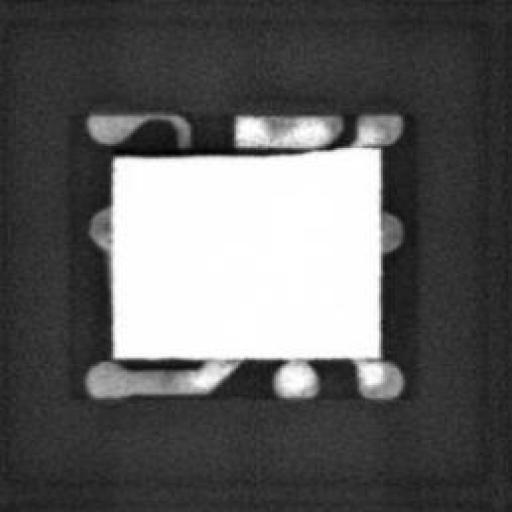DIE_BROKEN: (109, 140, 320, 156)
